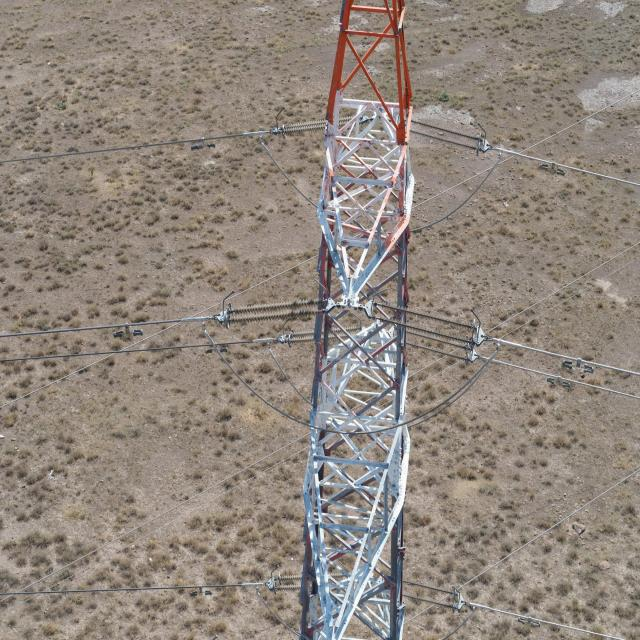voltage_line: (297, 0, 427, 630)
